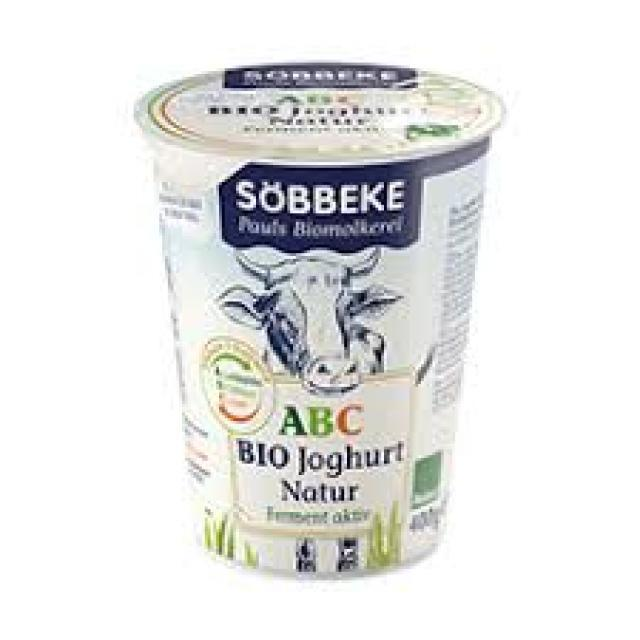Plastic: (135, 63, 506, 579)
